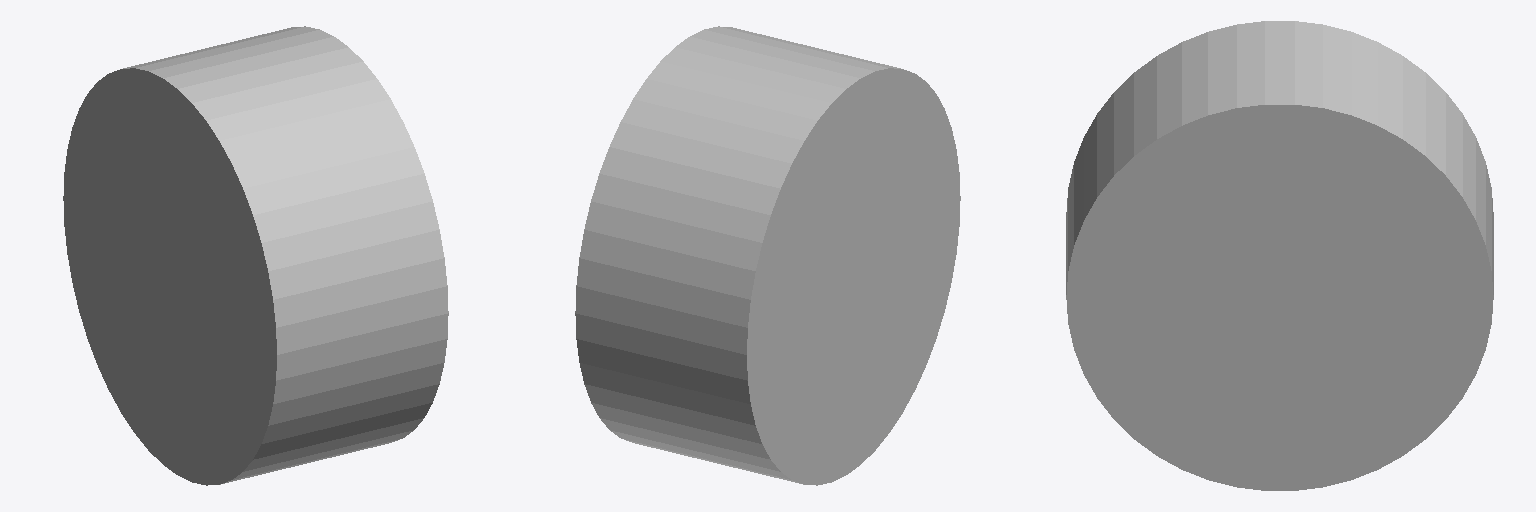
The model's file is WheelShape2.obj.
3 views of the same model, side by side, from view 1: azimuth 30°, elevation 25°; view 2: azimuth 150°, elevation 25°; view 3: azimuth 270°, elevation 25° (orthographic).
Visible parts, largest first — view 1: SketchUp; view 2: SketchUp; view 3: SketchUp.
Boxes of the visible parts, box(x1,y1,x2,y2) form: SketchUp: box(63, 26, 448, 485); SketchUp: box(575, 26, 960, 485); SketchUp: box(1066, 21, 1493, 490).
Bounding box in the file's own units: 0.0461 × 0.0992 × 0.0994.